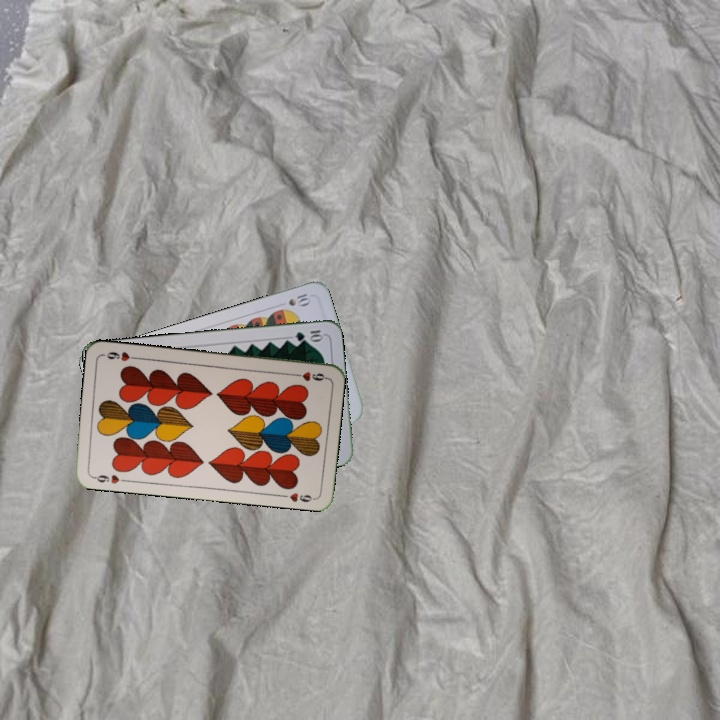G10: (291, 326, 326, 344)
H9: (288, 368, 329, 384), (89, 470, 129, 486)
S10: (284, 289, 313, 309)
